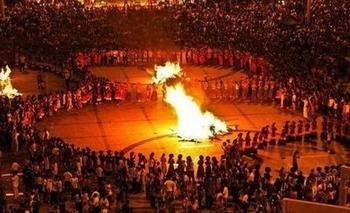fire: (164, 82, 226, 140), (147, 58, 183, 82), (0, 62, 21, 97)
